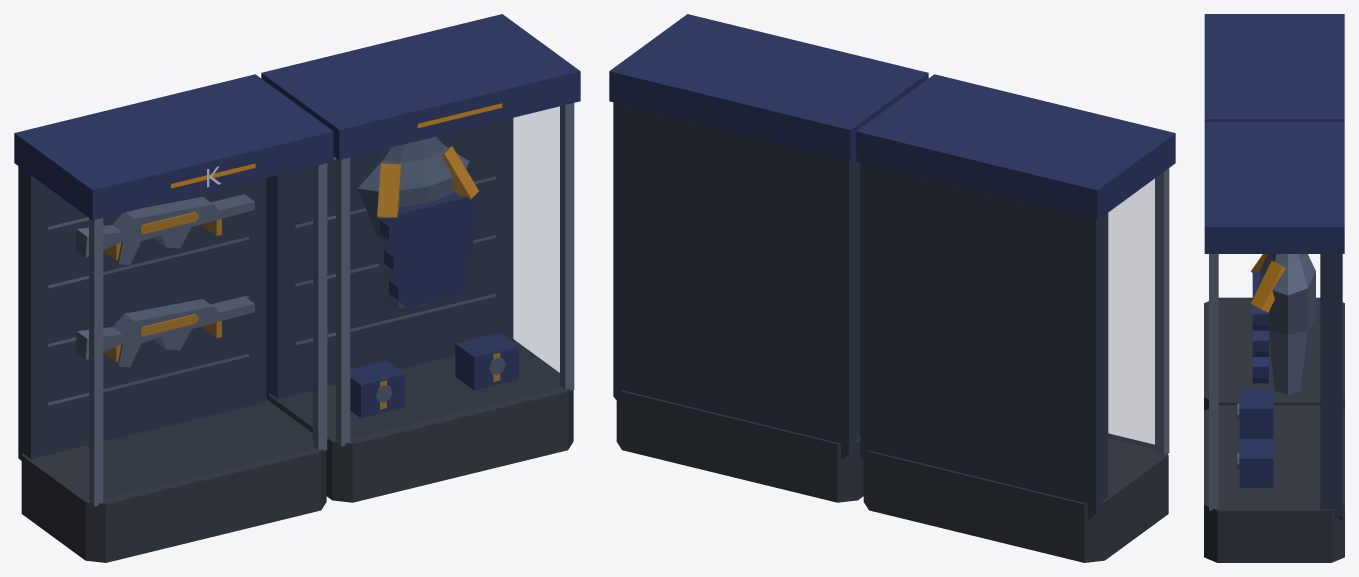
Rendered from mall_kurogane_display.glb.
3 renders of one model, left to right at view 1: azimuth 30°, elevation 25°; view 2: azimuth 150°, elevation 25°; view 3: azimuth 270°, elevation 25°, orthographic. The views are drawn at different scales.
Visible parts, largest first — view 1: armoured_lite, mount_panel, ceramic_plate, armoured_plinth, display_cast, bust, exhibit_hook; view 2: mount_panel, ceramic_plate, armoured_plinth, armoured_lite, display_cast; view 3: ceramic_plate, armoured_plinth, mount_panel, bust, display_cast, exhibit_hook.
Boxes of the visible parts, x1,y1,x2,y2 form: armoured_lite: (104, 106, 562, 499); mount_panel: (18, 118, 513, 460); ceramic_plate: (14, 14, 580, 417); armoured_plinth: (21, 339, 573, 562); display_cast: (48, 103, 574, 506); bust: (357, 136, 505, 402); exhibit_hook: (103, 103, 502, 409); mount_panel: (613, 102, 1108, 519); ceramic_plate: (609, 14, 1175, 220); armoured_plinth: (616, 390, 1168, 562); armoured_lite: (1109, 179, 1154, 448); display_cast: (1155, 168, 1169, 454); ceramic_plate: (1204, 14, 1344, 487); armoured_plinth: (1204, 297, 1344, 562); mount_panel: (1320, 254, 1342, 520); bust: (1237, 254, 1315, 468); display_cast: (1209, 254, 1218, 510); exhibit_hook: (1251, 254, 1285, 312).
Bounding box in the file's own units: 3.4 × 2.5 × 0.95.
